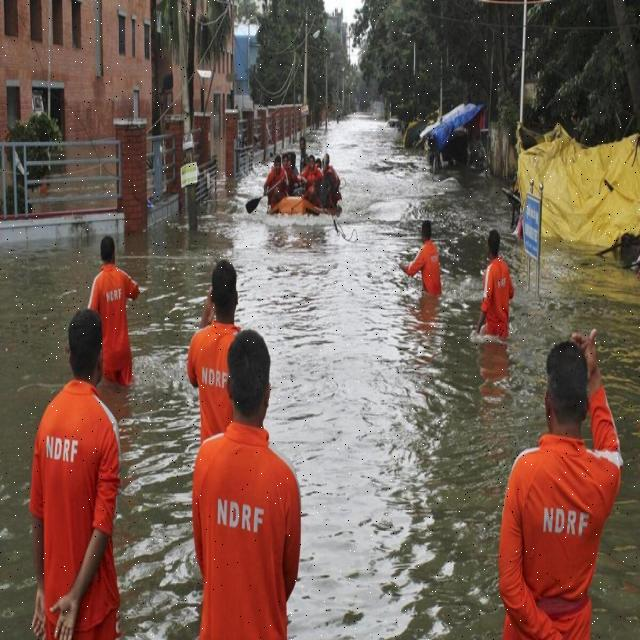rescuer: (519, 329, 610, 640), (214, 337, 298, 637), (45, 313, 119, 630), (88, 232, 138, 379), (479, 223, 514, 335), (404, 217, 444, 294), (262, 152, 289, 205), (304, 155, 320, 188)
